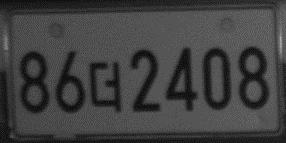0: (200, 47, 233, 109)
2: (128, 48, 163, 112)
4: (163, 45, 201, 112)
6: (52, 49, 87, 114)
8: (235, 44, 271, 109), (17, 50, 52, 114)
더: (88, 59, 124, 114)
